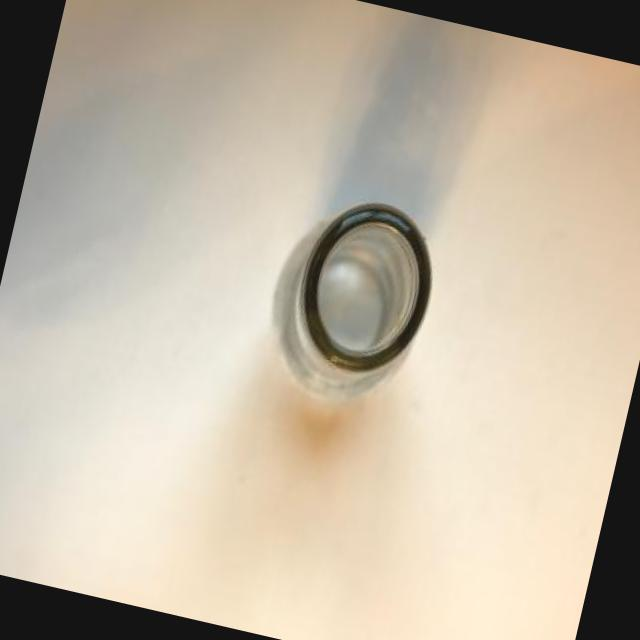chai_thuy_tinh: (269, 203, 432, 405)
